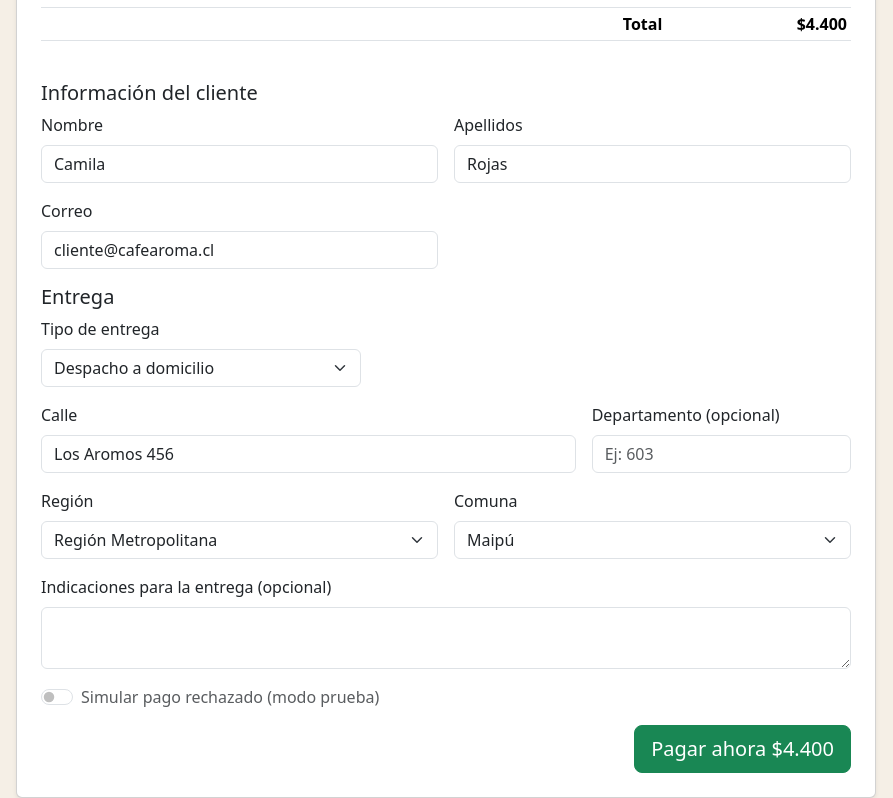
it: CheckoutView › un pago aprobado crea la orden, descuenta stock y vacía el carrito
(page scrolled)
Click the button "Pagar ahora $4.400" at point(743, 749), box x1=634 y1=725 x2=851 y2=773
(page scrolled)
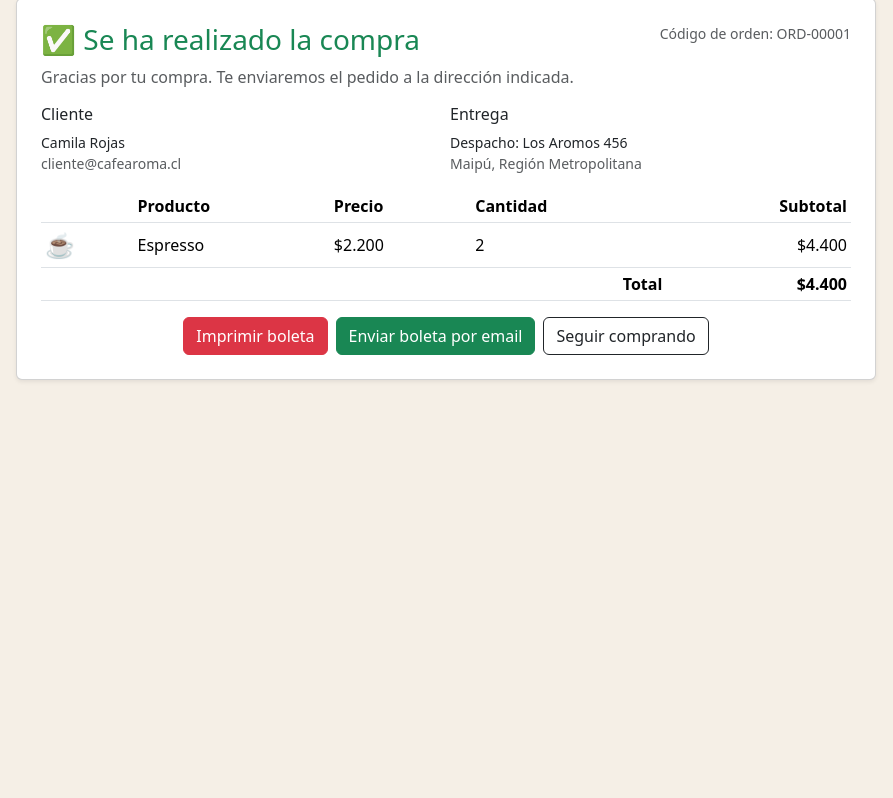
Now the heading "✅ Se ha realizado la compra" is shown, box x1=41 y1=23 x2=420 y2=57
